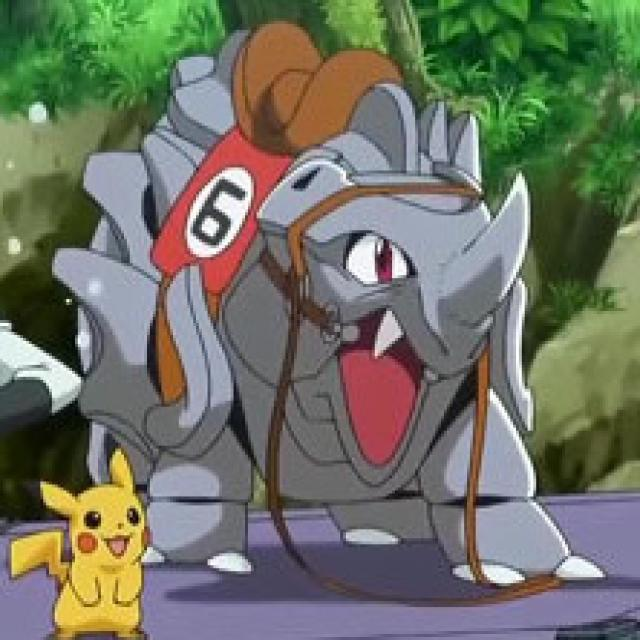Rhyhorn: (52, 23, 570, 519)
